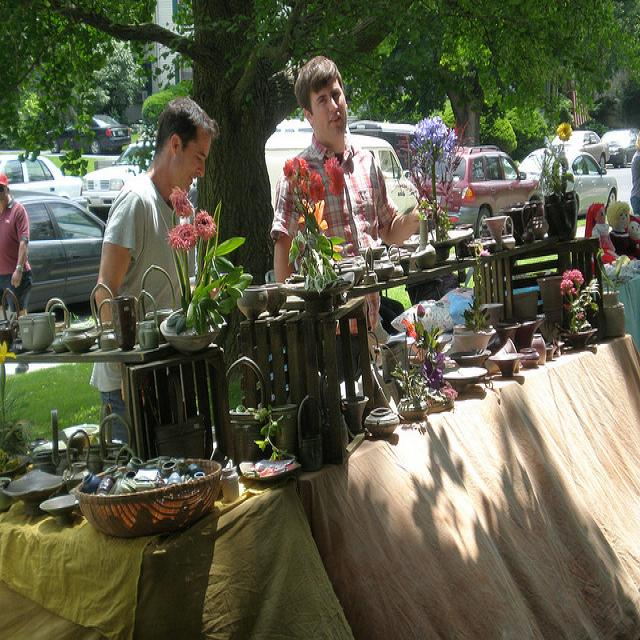Vehicle: (262, 116, 420, 217), (264, 132, 418, 213), (8, 190, 106, 313), (435, 144, 543, 238), (518, 146, 618, 216), (81, 140, 156, 209), (0, 153, 84, 200), (54, 118, 128, 155), (550, 130, 610, 166), (600, 128, 638, 167)
